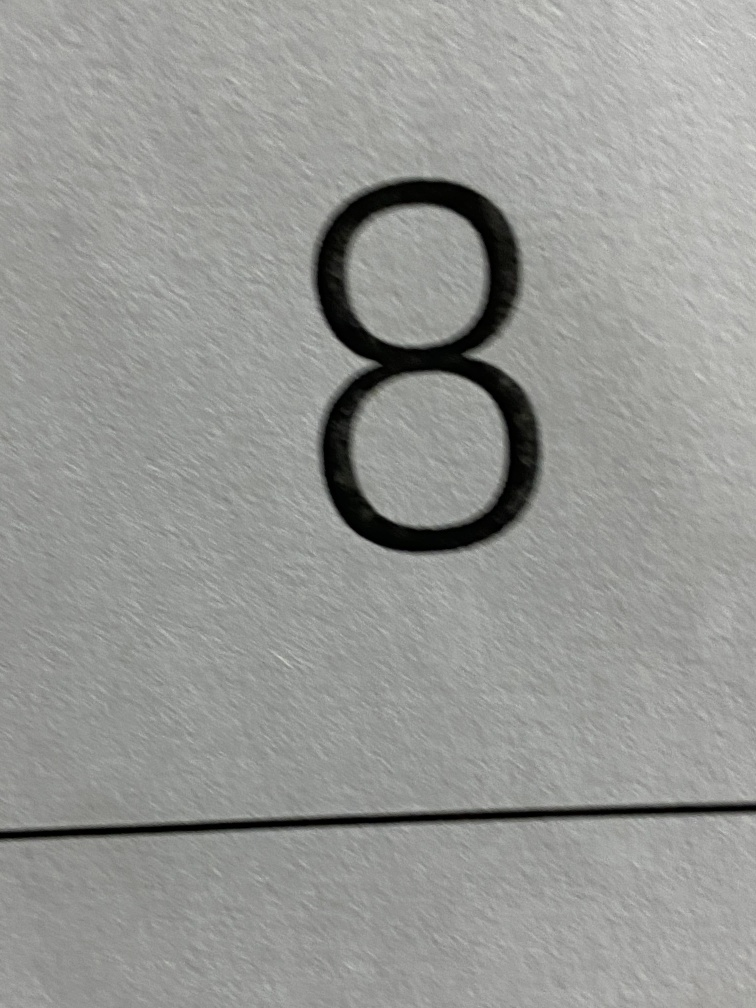eight: (234, 116, 619, 609)
